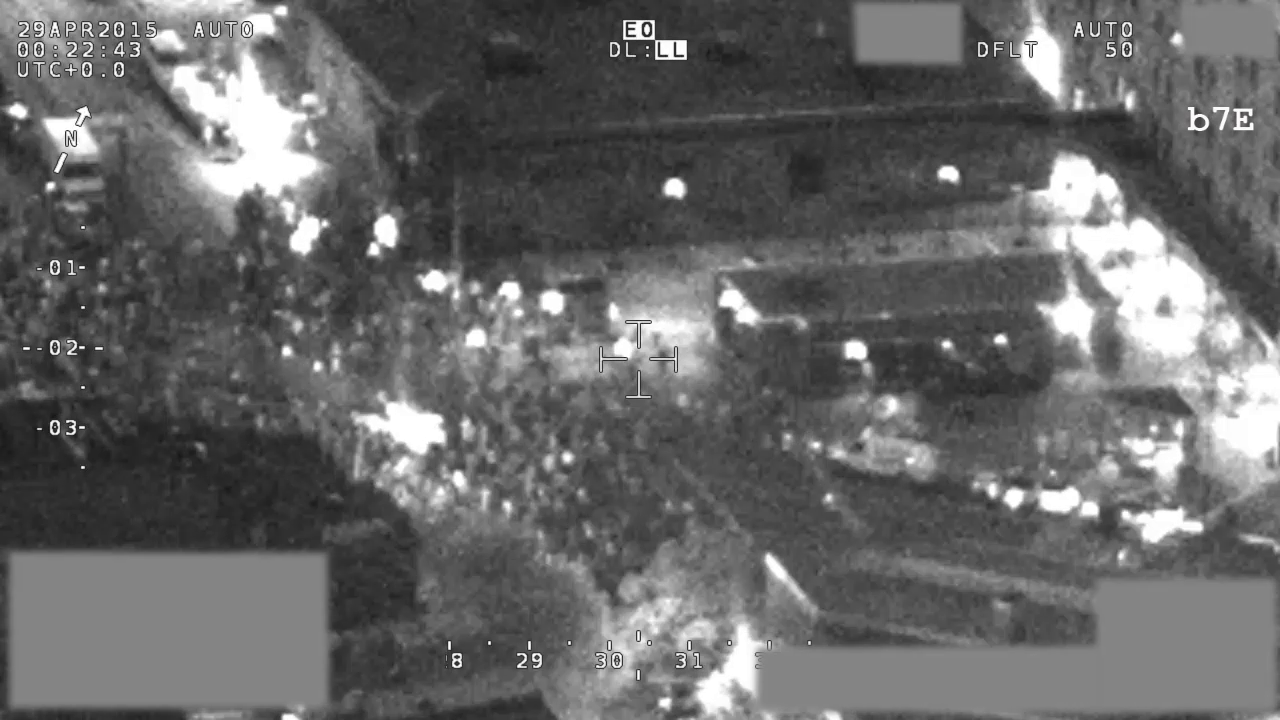vehicle: (821, 391, 947, 486), (34, 112, 122, 220), (138, 25, 199, 100)
